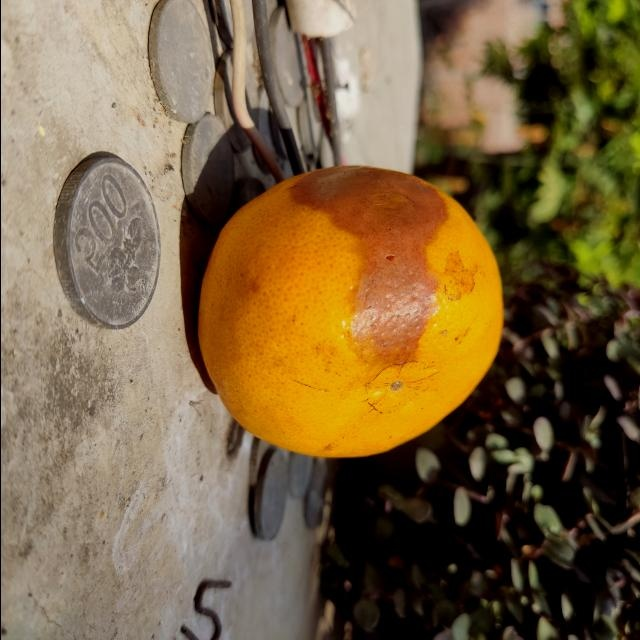agrume: (194, 165, 506, 463)
